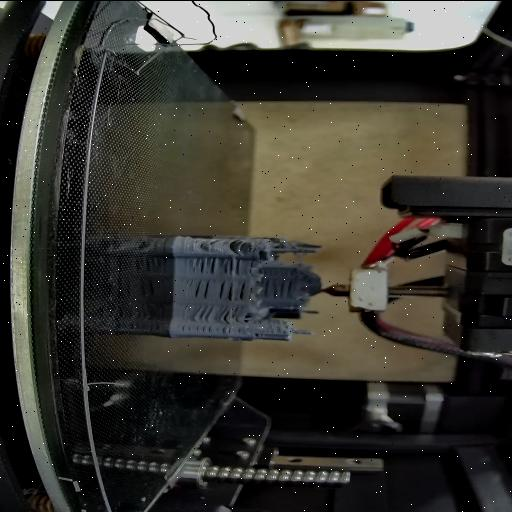cracks: (187, 255, 243, 274), (260, 278, 296, 296), (219, 279, 247, 301), (185, 278, 213, 298), (182, 325, 240, 333), (218, 304, 241, 324), (192, 302, 214, 320), (229, 238, 250, 252), (198, 238, 224, 248), (252, 331, 267, 335)
